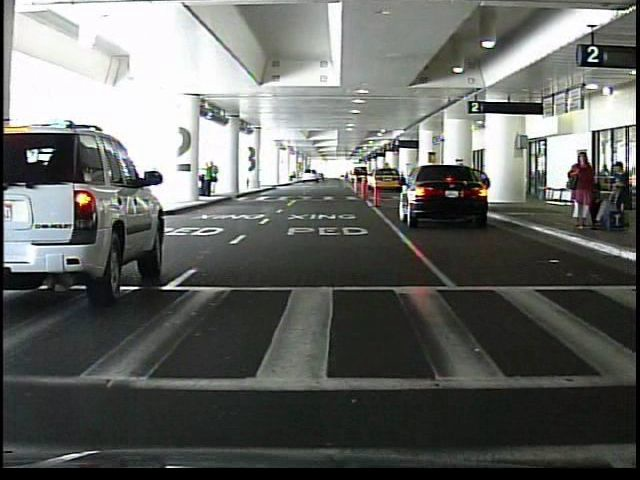person: (566, 152, 599, 228), (605, 161, 627, 228), (580, 156, 592, 203), (201, 161, 213, 198), (211, 161, 220, 196)
